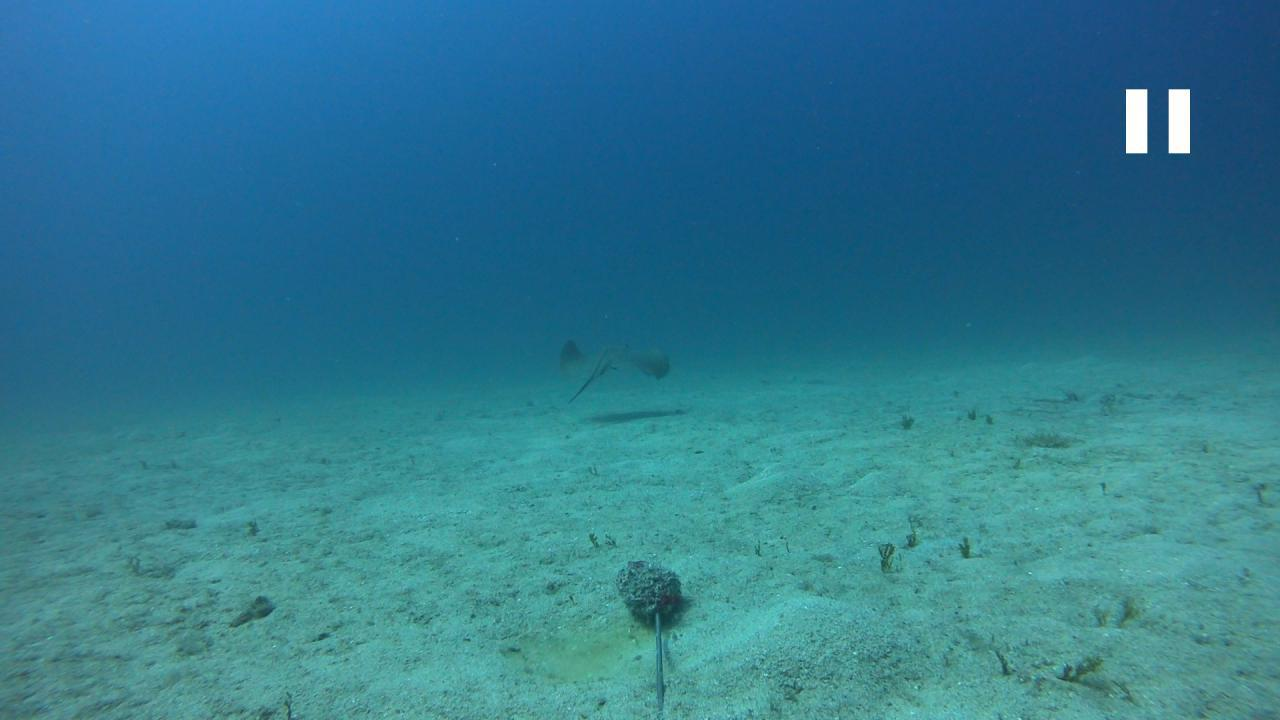dasyatis: (558, 339, 668, 404)
